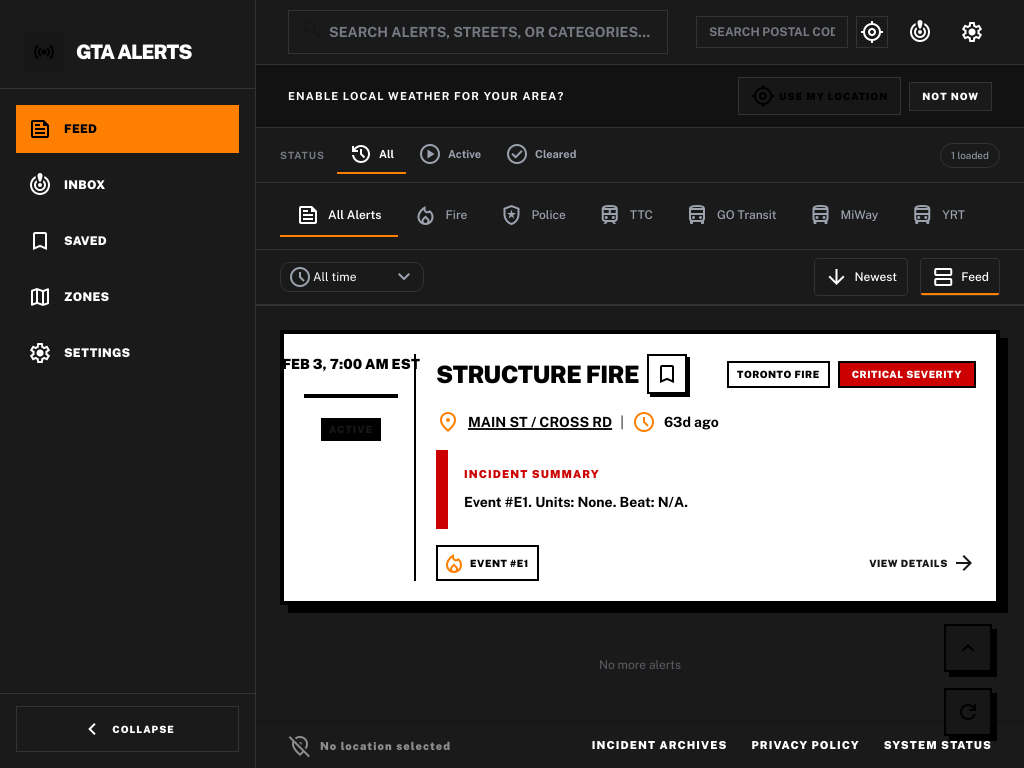
Test: GTA Alerts App (typed domain enforcement boundary) › falls back to clipboard copy when native share is unavailable
This screenshot has width=1024, height=768.
Expected: the text "STRUCTURE FIRE" is shown, [436,360,639,388]
Click the text "STRUCTURE FIRE". click: (640, 589)
box: [280,330,1000,605]
(page scrolled)
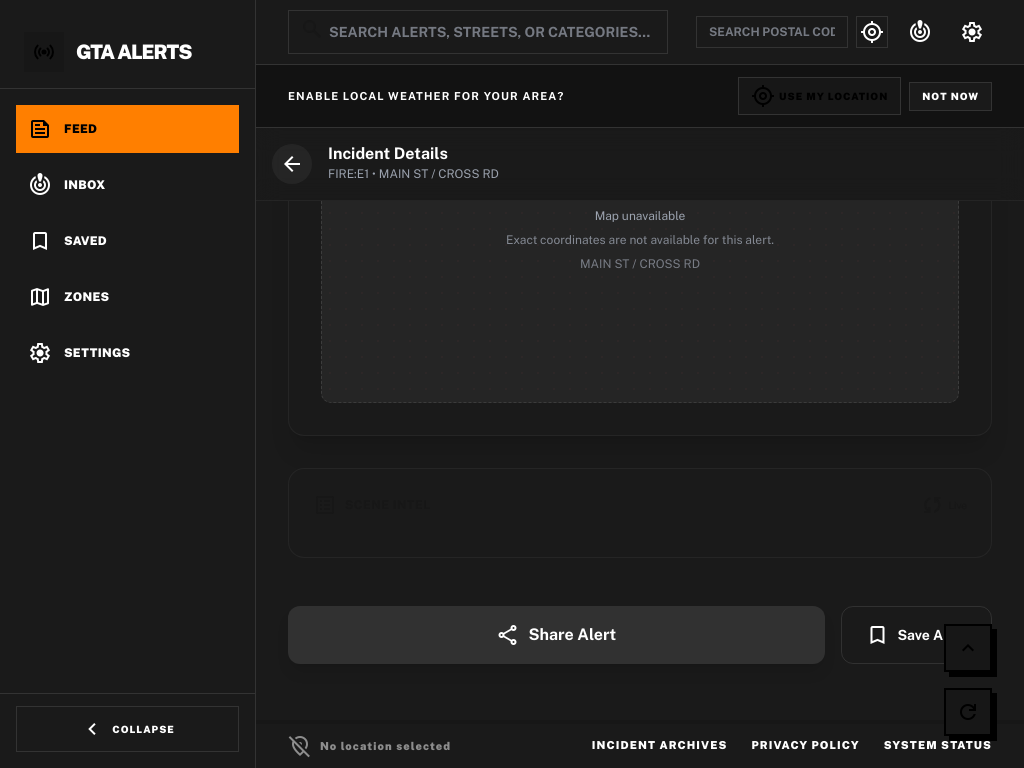
Click the button "Share Alert". click: (556, 635)
box: [288,606,824,664]
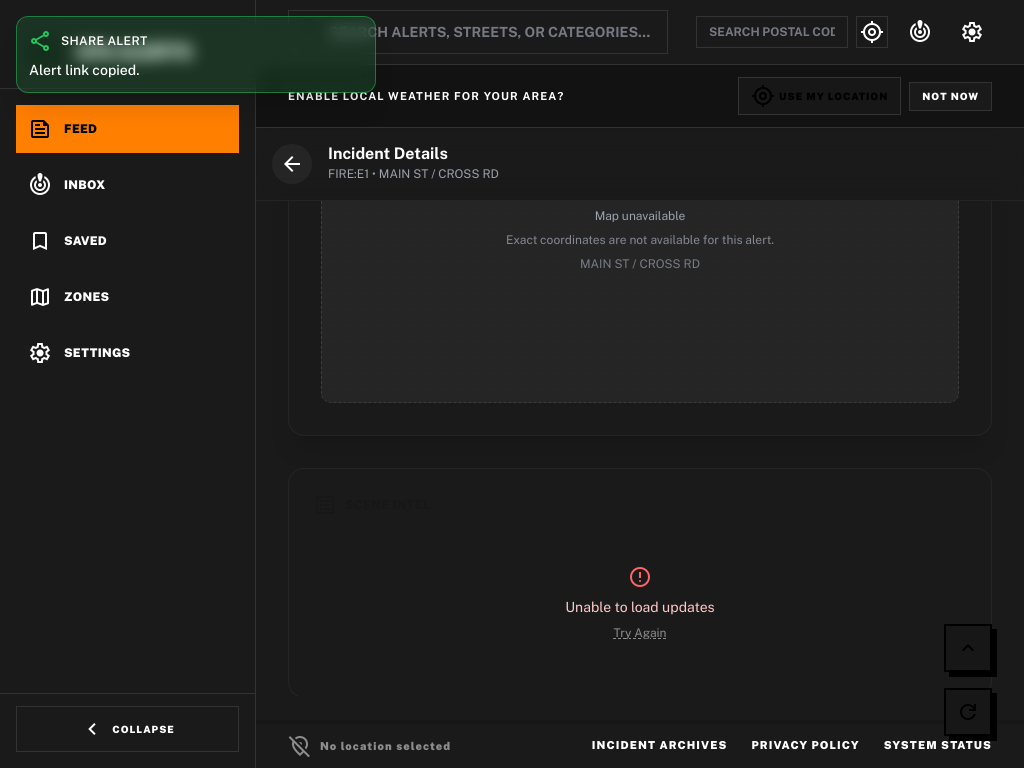
Now the text "Alert link copied." is shown, box [29,62,140,78]
